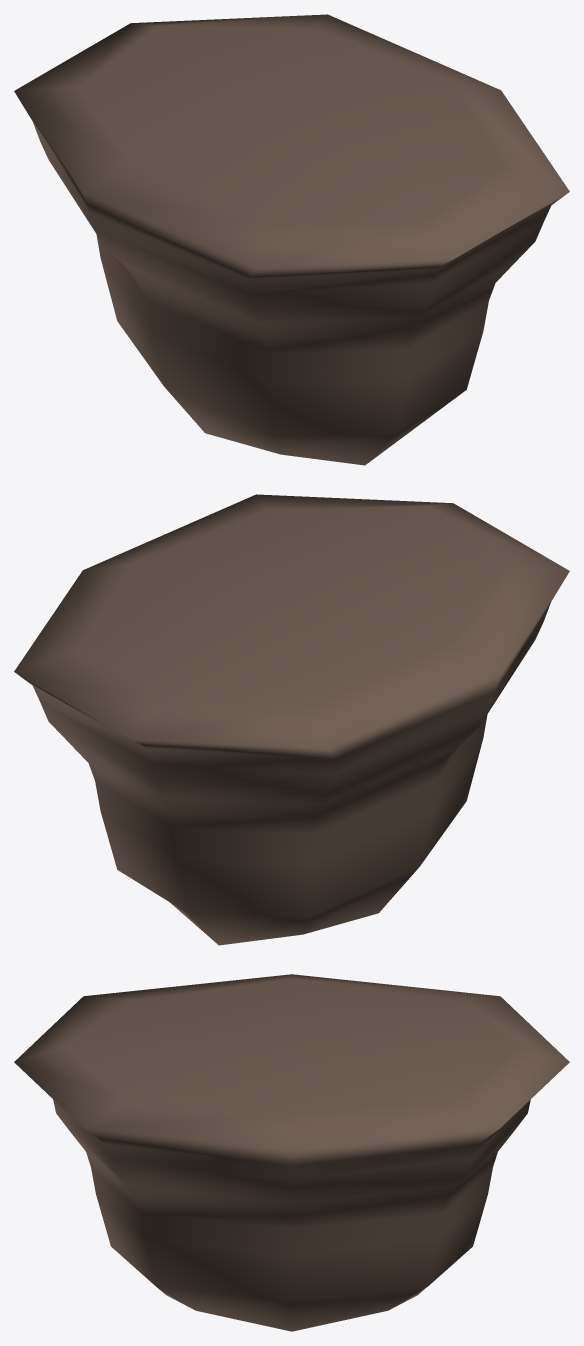
The model's file is SM_Stone3.fbx.
3 renders of one model, top to bottom at view 1: azimuth 30°, elevation 25°; view 2: azimuth 150°, elevation 25°; view 3: azimuth 270°, elevation 25°, orthographic. The views are drawn at different scales.
Parts seen in each view (by area): view 1: SM_Stone_3; view 2: SM_Stone_3; view 3: SM_Stone_3.
Part boxes in pixels (x1,y1,x2,y2): SM_Stone_3: [14, 14, 569, 465]; SM_Stone_3: [14, 494, 569, 945]; SM_Stone_3: [14, 974, 569, 1331].
Bounding box in the file's own units: 1710 × 1223 × 2286.
